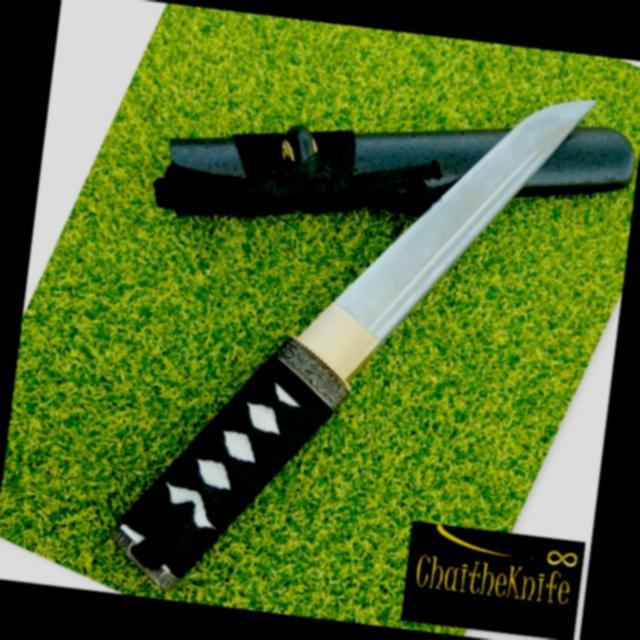short sword: (92, 35, 598, 619)
